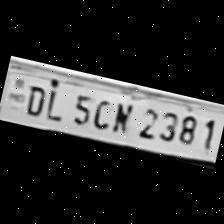1: (196, 114, 222, 151)
2: (133, 102, 161, 140)
3: (154, 105, 180, 144)
5: (65, 86, 96, 126)
8: (174, 110, 200, 148)
C: (88, 92, 114, 131)
D: (18, 78, 50, 118)
L: (40, 83, 68, 123)
N: (105, 96, 136, 136)
